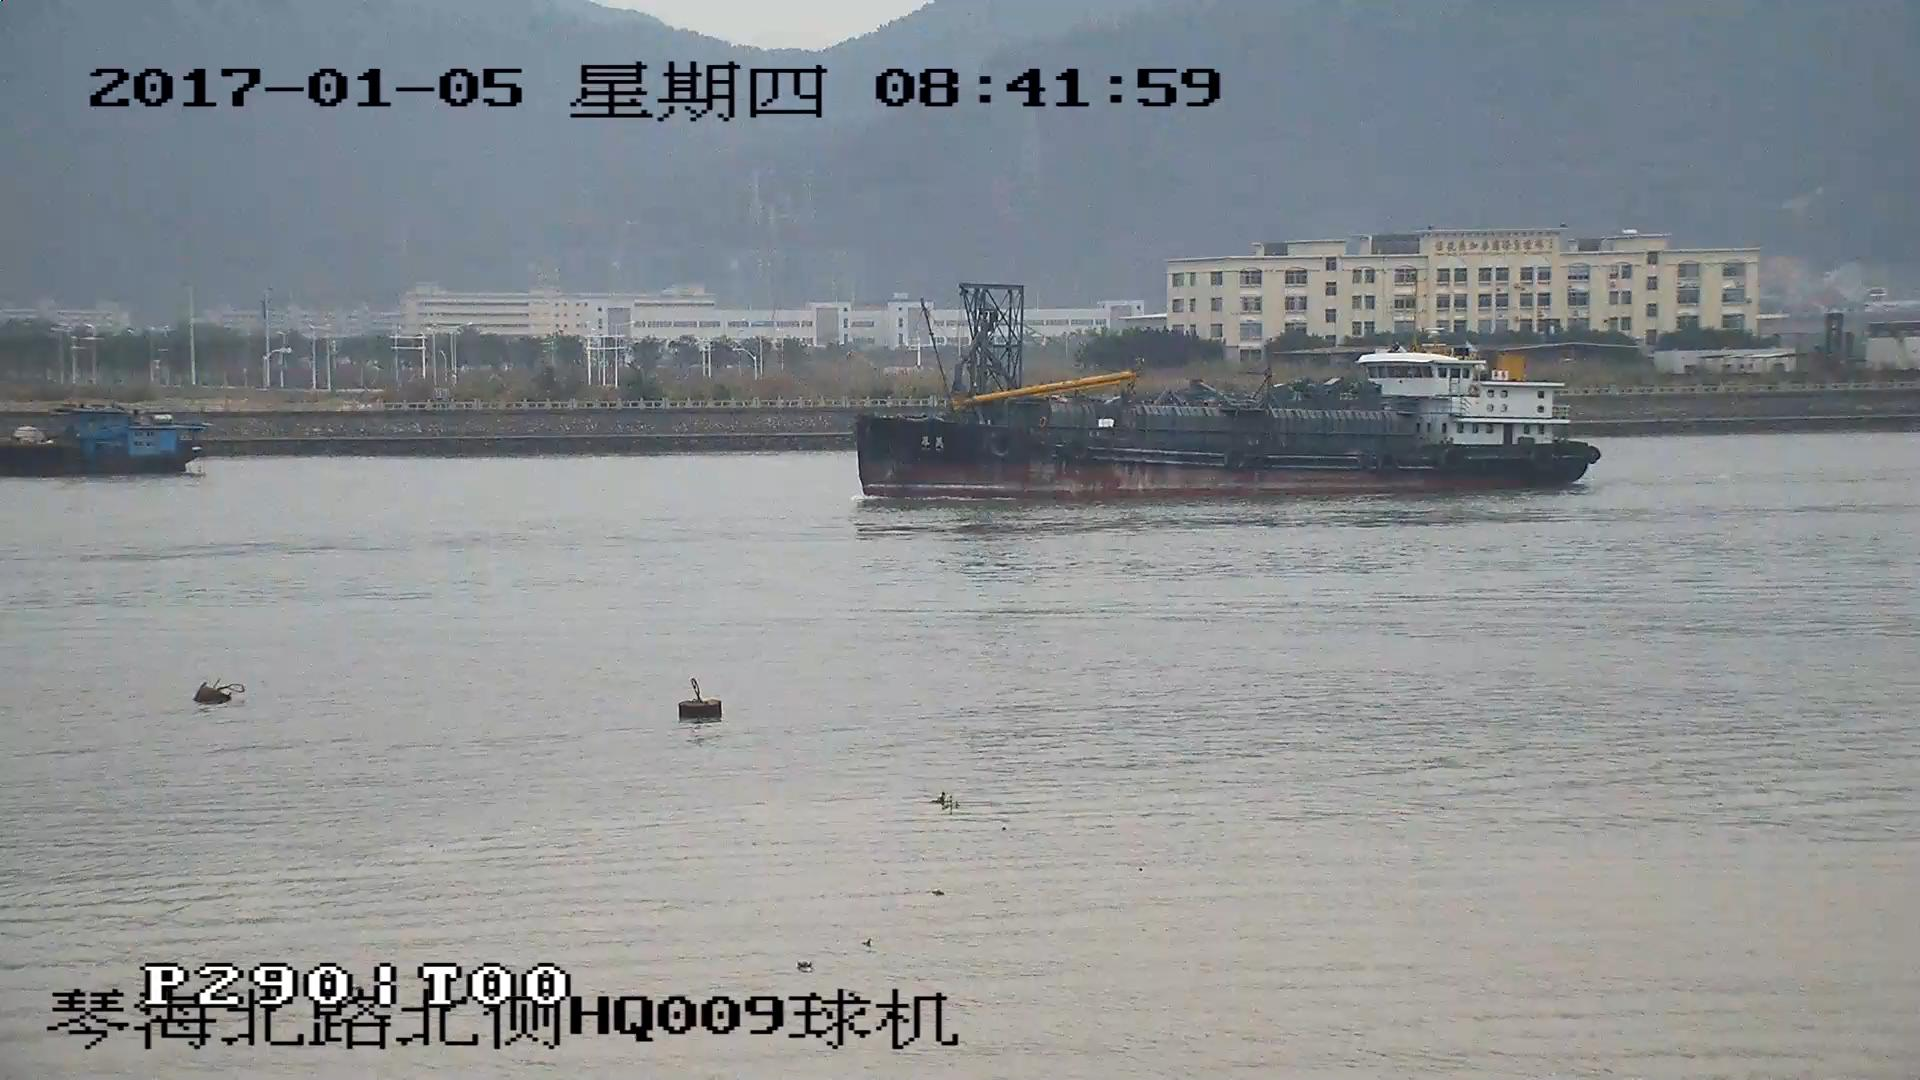bulk cargo carrier: (867, 290, 1597, 514)
